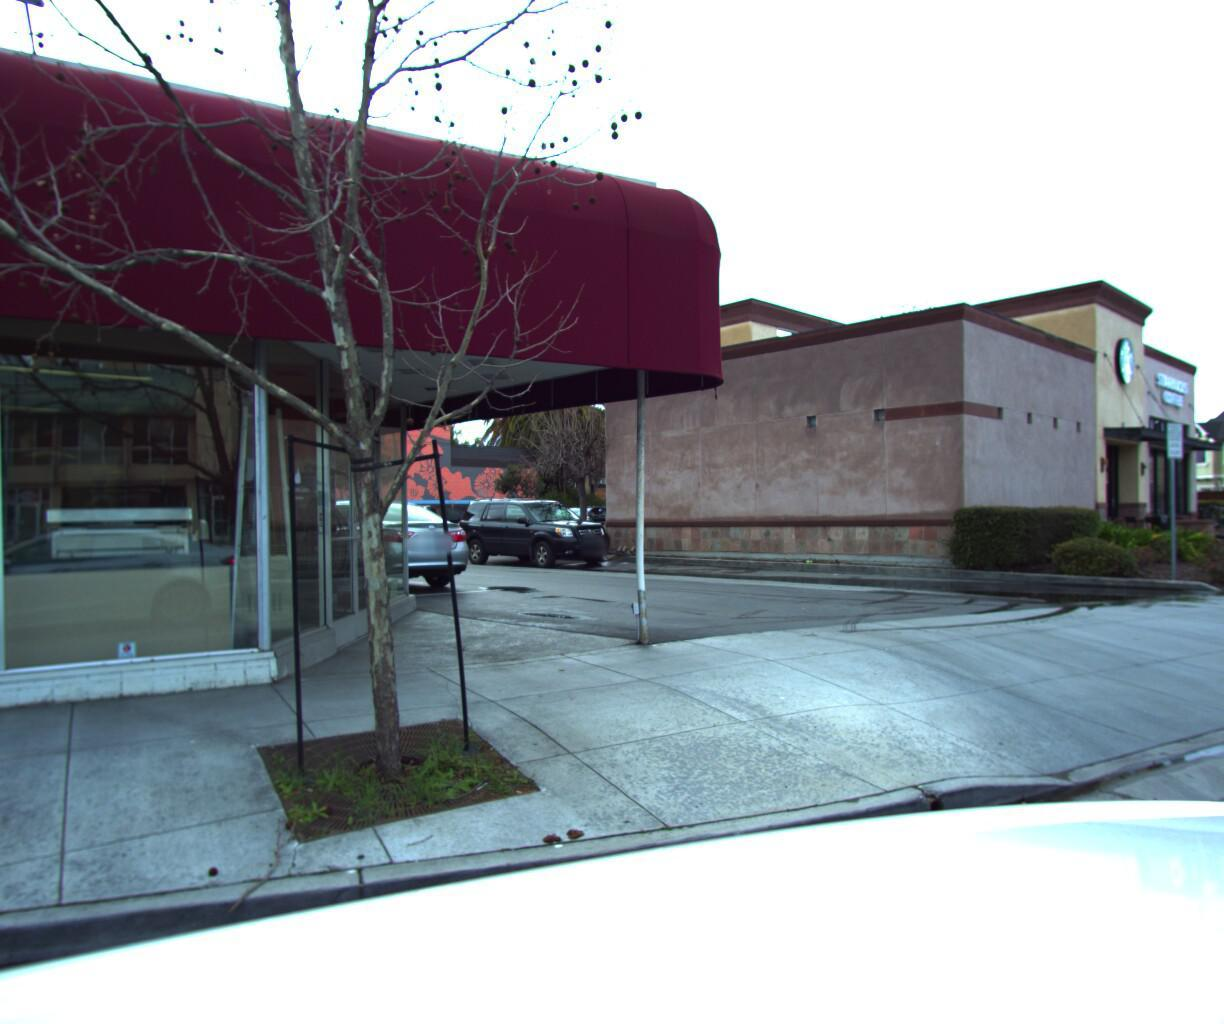car: (259, 493, 489, 597)
